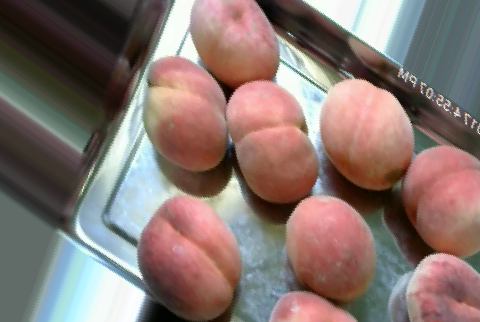Peach: (137, 192, 242, 321), (224, 79, 317, 205), (320, 77, 413, 186), (138, 59, 230, 169), (284, 195, 376, 301), (405, 144, 478, 257), (406, 254, 479, 322)
